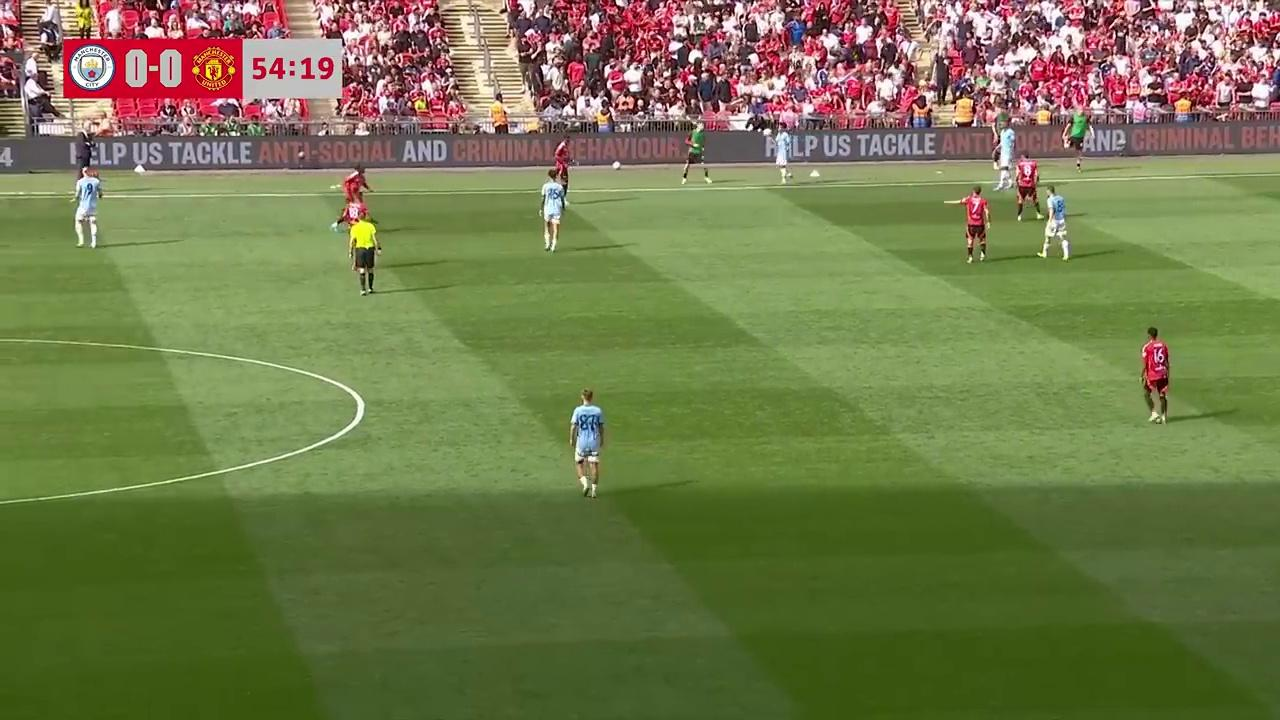player: (569, 388, 605, 498), (1140, 326, 1171, 425), (954, 186, 991, 264), (332, 166, 375, 231), (71, 164, 103, 248), (1037, 185, 1069, 259), (539, 172, 564, 252), (990, 113, 1014, 191), (1015, 159, 1041, 221), (552, 139, 573, 205), (775, 126, 793, 183)
referee: (348, 212, 381, 296)
